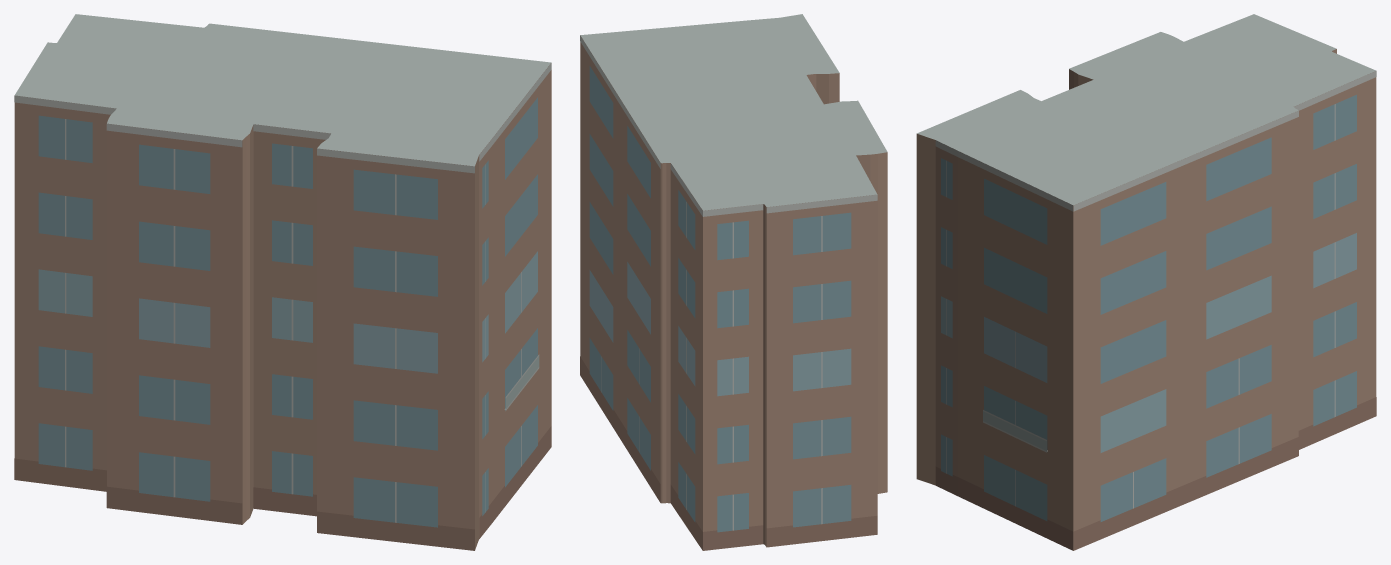
Rendered from survey-upis-32881751.glb.
3 renders of one model, left to right at view 1: azimuth 30°, elevation 25°; view 2: azimuth 150°, elevation 25°; view 3: azimuth 270°, elevation 25°, orthographic. The views are drawn at different scales.
Visible parts, largest first — view 1: survey-upis-32881751.tmp; view 2: survey-upis-32881751.tmp; view 3: survey-upis-32881751.tmp.
Boxes of the visible parts, box(x1,y1,x2,y2) form: survey-upis-32881751.tmp: box(14, 14, 551, 550); survey-upis-32881751.tmp: box(580, 14, 887, 550); survey-upis-32881751.tmp: box(916, 14, 1376, 550).
Size of the model in its own units: 15.81 by 13.3 by 16.05.
